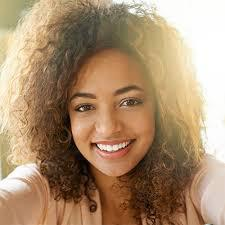face: (69, 49, 156, 177)
